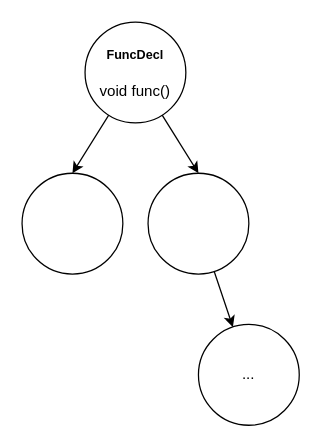
Some shapes in this 321 by 447 pixel diagram are drawn without their labels. The centre of each missing label's shape, as x and y in pixels:
FuncBody {...}: pixel 198 223
ParamValDecl (): pixel 72 223
